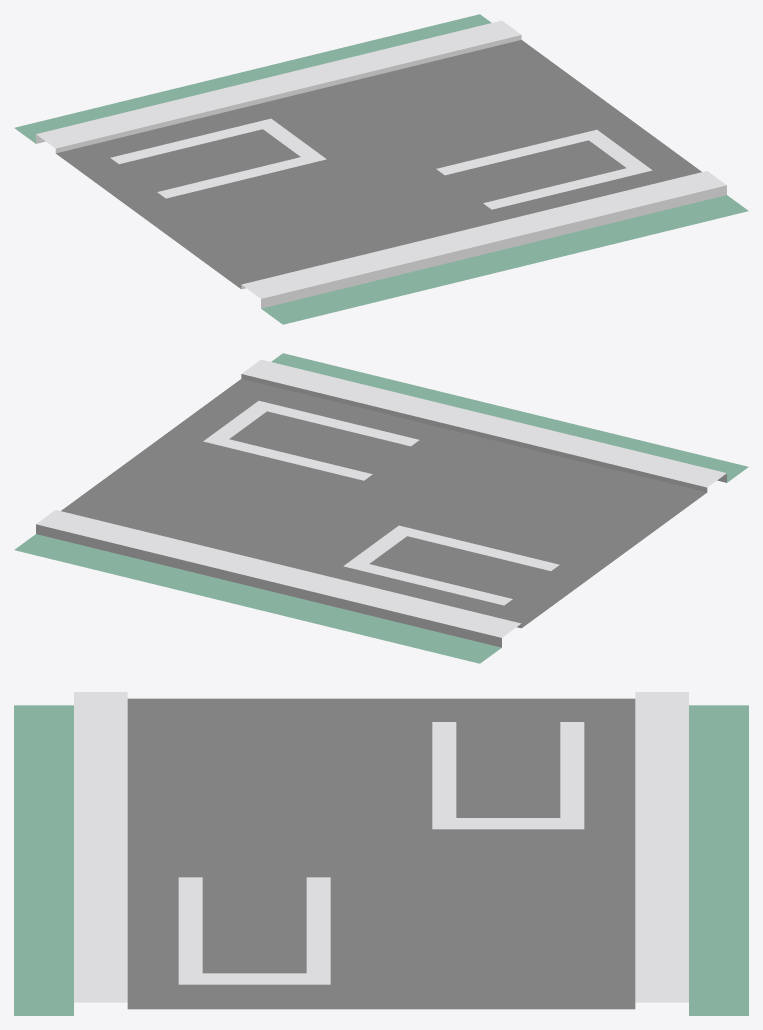
Rendered from roadStartPositionsSmall90.fbx.
3 renders of one model, top to bottom at view 1: azimuth 30°, elevation 25°; view 2: azimuth 150°, elevation 25°; view 3: azimuth 270°, elevation 25°, orthographic. The views are drawn at different scales.
Visible parts, largest first — view 1: roadStartPositionsSmall90; view 2: roadStartPositionsSmall90; view 3: roadStartPositionsSmall90.
Part boxes in pixels (box(x1,y1,x2,y2)): roadStartPositionsSmall90: box(14, 14, 748, 324); roadStartPositionsSmall90: box(14, 353, 748, 663); roadStartPositionsSmall90: box(14, 692, 748, 1015).
Bounding box in the file's own units: 1000 × 20 × 1000.
